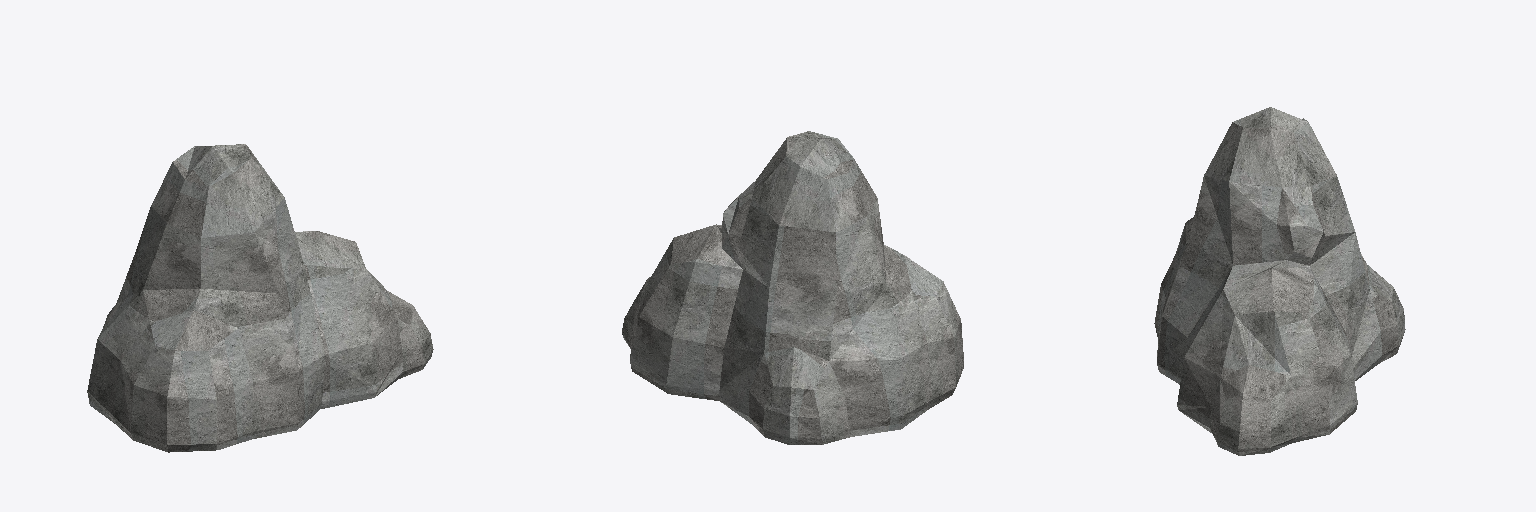
3 renders of one model, left to right at view 1: azimuth 30°, elevation 25°; view 2: azimuth 150°, elevation 25°; view 3: azimuth 270°, elevation 25°, orthographic.
Parts seen in each view (by area): view 1: Piedra:model; view 2: Piedra:model; view 3: Piedra:model.
Part boxes in pixels (left/top/right/bottom): Piedra:model: left=87, top=144, right=433, bottom=452; Piedra:model: left=622, top=131, right=963, bottom=444; Piedra:model: left=1154, top=107, right=1405, bottom=455.
Size of the model in its own units: 0.9457 by 0.7245 by 0.6562.
Materials: 1 (1 with a texture image).